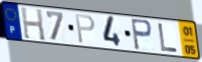4: (102, 15, 125, 50)
7: (45, 10, 65, 43)
H: (20, 6, 47, 42)
L: (156, 22, 179, 54)
P: (130, 17, 154, 52), (74, 13, 97, 45)
